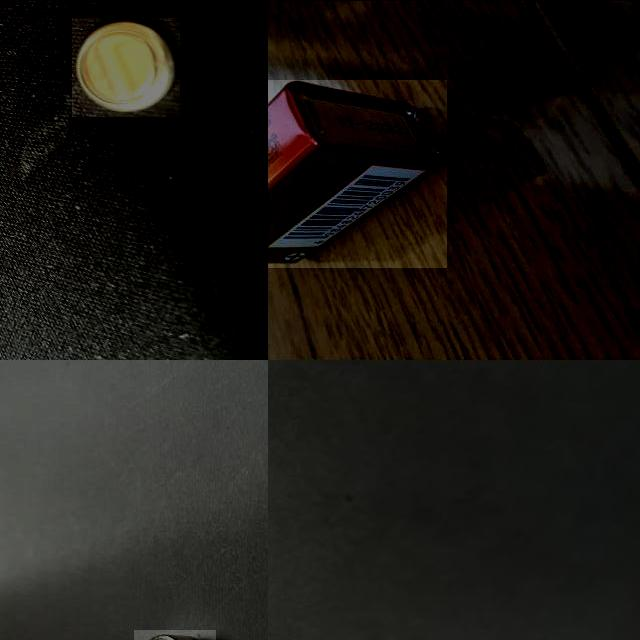9V: (268, 79, 447, 267)
